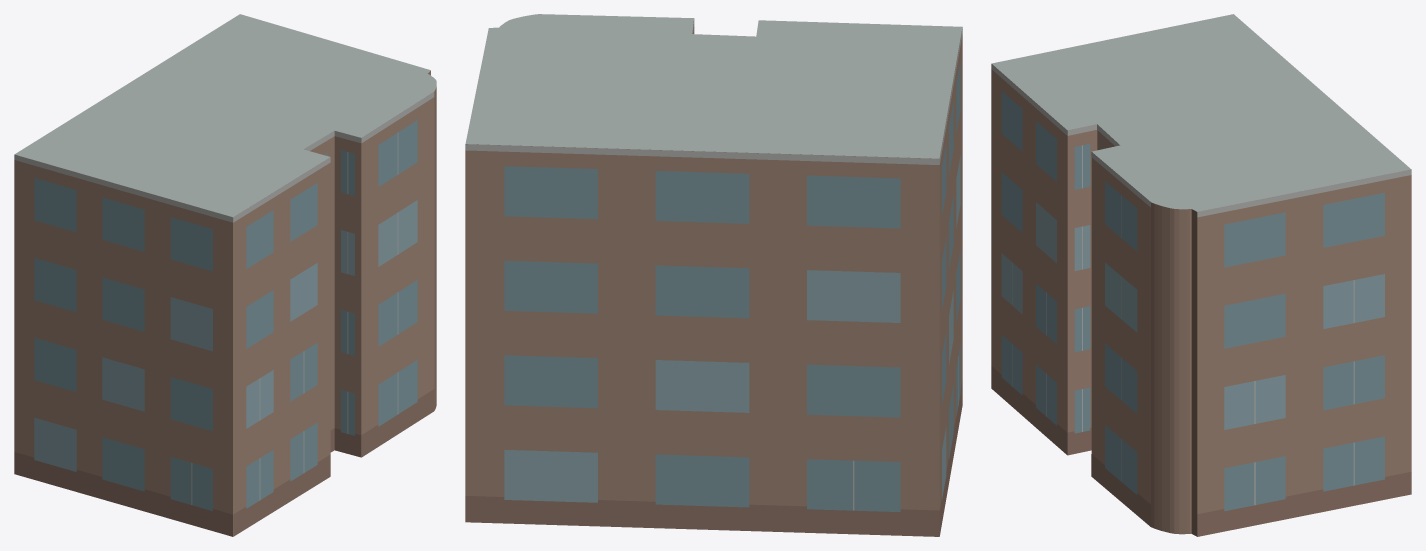
Rendered from survey-upis-32748323.glb.
3 renders of one model, left to right at view 1: azimuth 30°, elevation 25°; view 2: azimuth 150°, elevation 25°; view 3: azimuth 270°, elevation 25°, orthographic. The views are drawn at different scales.
Parts seen in each view (by area): view 1: survey-upis-32748323.tmp; view 2: survey-upis-32748323.tmp; view 3: survey-upis-32748323.tmp.
Boxes of the visible parts, bbox=[...] form: survey-upis-32748323.tmp: bbox=[14, 14, 436, 536]; survey-upis-32748323.tmp: bbox=[465, 14, 962, 536]; survey-upis-32748323.tmp: bbox=[991, 14, 1411, 536].
Bounding box in the file's own units: 18.75 × 14.35 × 16.82.
